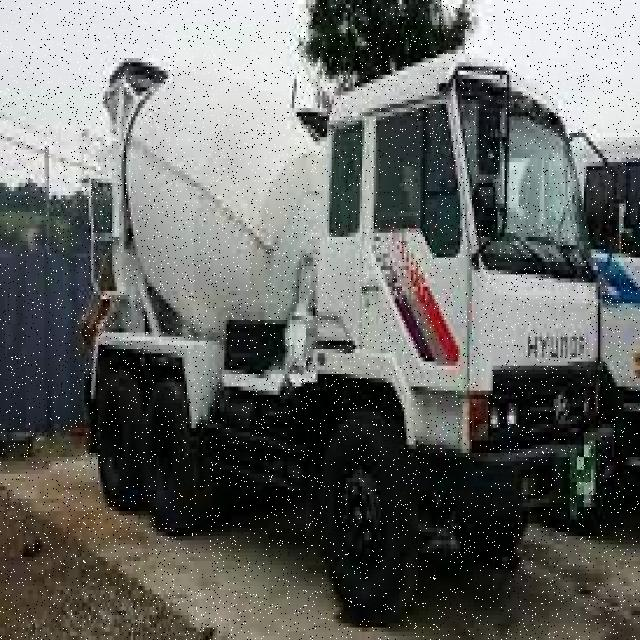Mixer Truck: (75, 49, 602, 636), (495, 120, 640, 536)
